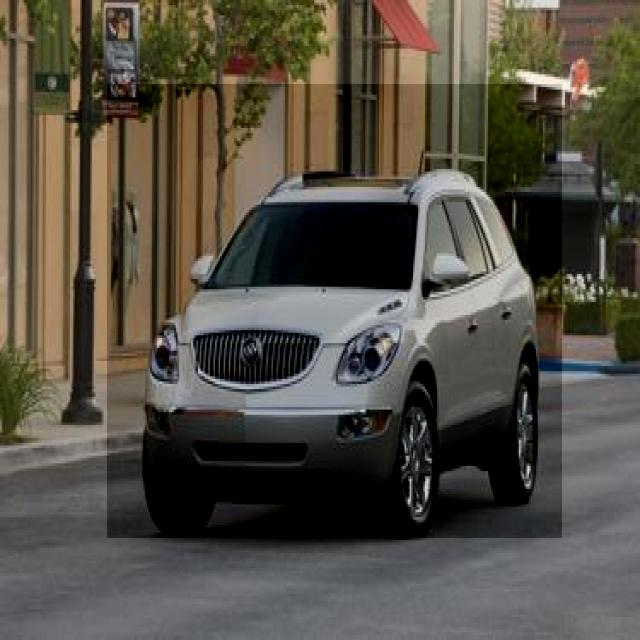Car: (107, 84, 562, 538)
